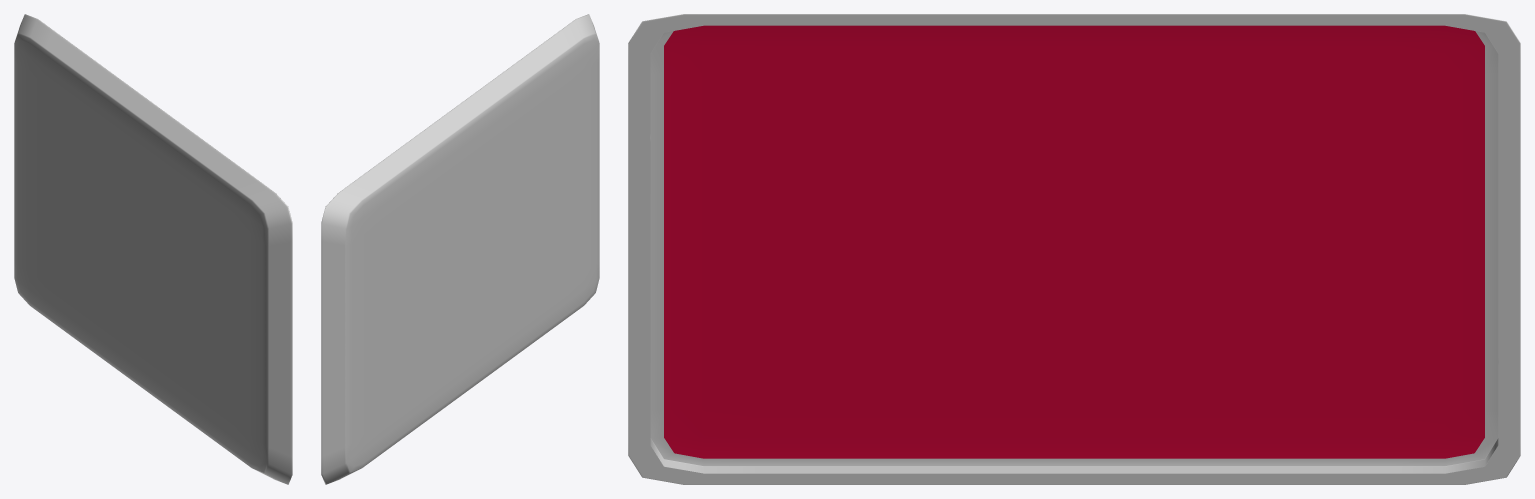
File: monitor.fbx
3 renders of one model, left to right at view 1: azimuth 30°, elevation 25°; view 2: azimuth 150°, elevation 25°; view 3: azimuth 270°, elevation 25°, orthographic. The views are drawn at different scales.
Visible parts, largest first — view 1: Cube; view 2: Cube; view 3: Cube.
Boxes of the visible parts, box(x1,y1,x2,y2) form: Cube: box(14, 14, 292, 484); Cube: box(321, 14, 599, 484); Cube: box(628, 14, 1520, 484).
Bounding box in the file's own units: 21.19 × 337 × 579.
